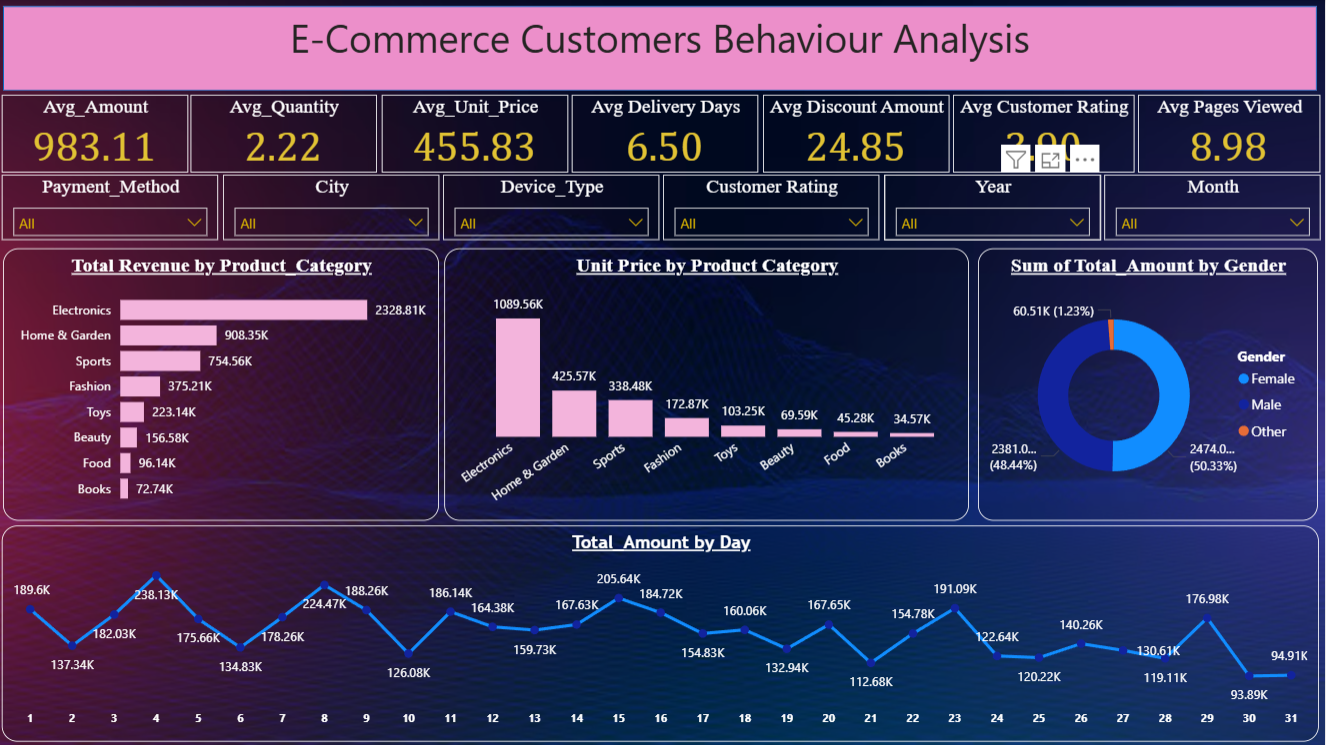

This screenshot's page, from the dashboard's own definition file:
{"tool":"powerbi","page":{"name":"Page 1","canvas":[1280,720],"ordinal":0},"visuals":[{"type":"lineChart","fields":{"Y":["Sum(ecommerce_customer_behavior_dataset.Total_Amount)"],"Category":["ecommerce_customer_behavior_dataset.Date.Variation.Date Hierarchy.Day"]},"box":[3.6,507.9,1271.6,208.7],"z":0},{"type":"card","title":"Avg_Amount","fields":{"Values":["ecommerce_customer_behavior_dataset.Avg_Amount"]},"box":[3.7,91.4,179.8,75.5],"z":1000},{"type":"card","title":"Avg_Quantity","fields":{"Values":["ecommerce_customer_behavior_dataset.Avg_Quantity"]},"box":[186.2,91.4,179.8,75.5],"z":2000},{"type":"card","title":"Avg_Unit_Price","fields":{"Values":["ecommerce_customer_behavior_dataset.Avg_Unit_Price"]},"box":[370.1,91.4,179.8,75.5],"z":3000},{"type":"card","title":"Avg Delivery Days","fields":{"Values":["ecommerce_customer_behavior_dataset.Avg_Delivery_Time_Days"]},"box":[553.9,91.4,179.8,75.5],"z":4000},{"type":"card","title":"Avg Discount Amount","fields":{"Values":["ecommerce_customer_behavior_dataset.Avg_Discount_Amount"]},"box":[737.8,91.4,179.8,75.5],"z":5000},{"type":"card","title":"Avg Customer Rating","fields":{"Values":["ecommerce_customer_behavior_dataset.Avg_Customer_Rating"]},"box":[921.7,91.4,175,75.5],"z":6000},{"type":"card","title":"Avg Pages Viewed","fields":{"Values":["ecommerce_customer_behavior_dataset.Avg_Pages_Viewed"]},"box":[1100.1,91.4,175.6,75.5],"z":7000},{"type":"donutChart","fields":{"Category":["ecommerce_customer_behavior_dataset.Gender"],"Y":["Sum(ecommerce_customer_behavior_dataset.Total_Amount)"]},"box":[945.2,239.9,327.7,262.9],"z":8000},{"type":"slicer","title":"Payment_Method","fields":{"Values":["ecommerce_customer_behavior_dataset.Payment_Method"]},"box":[4.1,169.4,209.1,63.6],"z":9000},{"type":"slicer","title":"Device_Type","fields":{"Values":["ecommerce_customer_behavior_dataset.Device_Type"]},"box":[429.6,169.4,209.1,63.6],"z":10000},{"type":"slicer","title":"Year","fields":{"Values":["ecommerce_customer_behavior_dataset.Date.Variation.Date Hierarchy.Year"]},"box":[855,169.4,209.1,63.6],"z":11000},{"type":"slicer","title":"Month","fields":{"Values":["ecommerce_customer_behavior_dataset.Date.Variation.Date Hierarchy.Month"]},"box":[1067.8,169.4,209.1,63.6],"z":12000},{"type":"slicer","title":"Customer Rating","fields":{"Values":["ecommerce_customer_behavior_dataset.Customer_Rating"]},"box":[642,169.4,209.1,63.6],"z":13000},{"type":"slicer","title":"City","fields":{"Values":["ecommerce_customer_behavior_dataset.City"]},"box":[216.8,169.4,209.1,63.6],"z":14000},{"type":"barChart","title":"Total Revenue by Product_Category","fields":{"Category":["ecommerce_customer_behavior_dataset.Product_Category"],"Y":["Sum(ecommerce_customer_behavior_dataset.Total_Amount)"]},"box":[4.9,239.9,420.7,262.9],"z":15000},{"type":"columnChart","title":"Unit Price by Product Category","fields":{"Y":["Sum(ecommerce_customer_behavior_dataset.Unit_Price)"],"Category":["ecommerce_customer_behavior_dataset.Product_Category"]},"box":[430.4,239.9,506.3,262.9],"z":16000},{"type":"shape","title":"E-Commerce Customers Biheviour Analysis","box":[4.9,6.1,1268.1,81.9],"z":17000},{"type":"textbox","box":[4.9,6.1,1268.1,81.9],"z":18000}]}

Visuals, with their boxes in screenshot pixels (x1, y1, x2, y2), scaled from the page's 1280x720 canvas onto the 1326x745 screenshot:
lineChart - Sum(ecommerce_customer_behavior_dataset.Total_Amount) x ecommerce_customer_behavior_dataset.Date.Variation.Date Hierarchy.Day: 4:526:1321:741
"Avg_Amount" card: 4:95:190:173
"Avg_Quantity" card: 193:95:379:173
"Avg_Unit_Price" card: 383:95:570:173
"Avg Delivery Days" card: 574:95:760:173
"Avg Discount Amount" card: 764:95:951:173
"Avg Customer Rating" card: 955:95:1136:173
"Avg Pages Viewed" card: 1140:95:1322:173
donutChart - ecommerce_customer_behavior_dataset.Gender x Sum(ecommerce_customer_behavior_dataset.Total_Amount): 979:248:1319:520
"Payment_Method" slicer: 4:175:221:241
"Device_Type" slicer: 445:175:662:241
"Year" slicer: 886:175:1102:241
"Month" slicer: 1106:175:1323:241
"Customer Rating" slicer: 665:175:882:241
"City" slicer: 225:175:441:241
"Total Revenue by Product_Category" barChart: 5:248:441:520
"Unit Price by Product Category" columnChart: 446:248:970:520
"E-Commerce Customers Biheviour Analysis" shape: 5:6:1319:91
textbox: 5:6:1319:91
